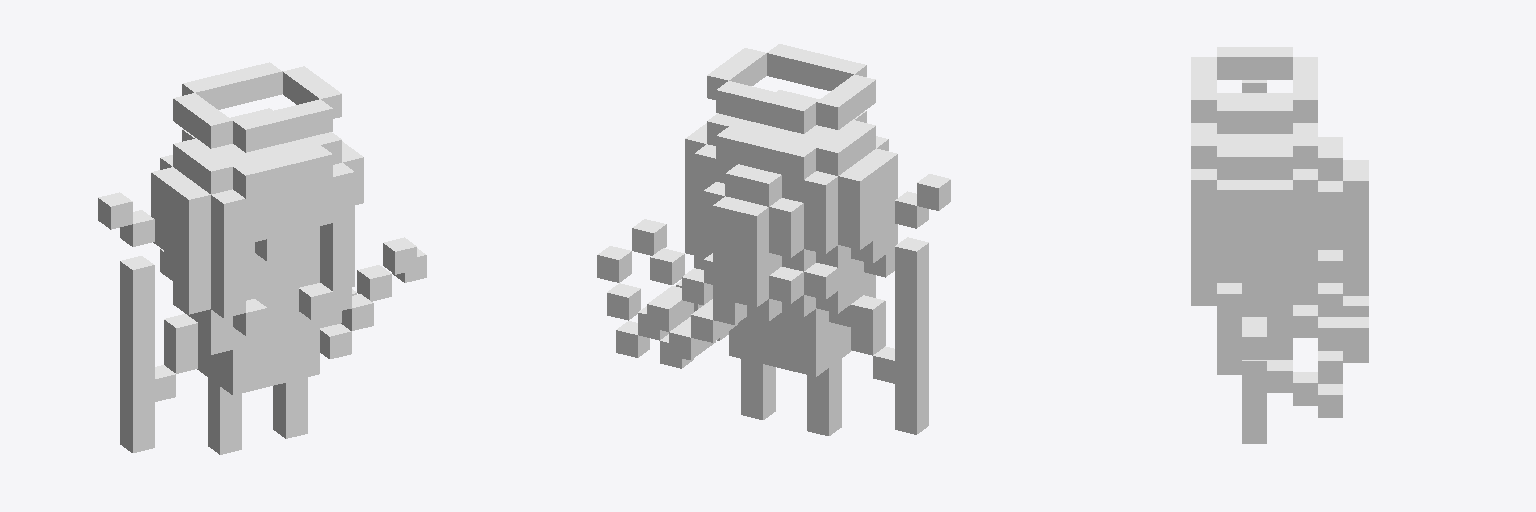
The model's file is Angle.obj.
The picture shows the model from 3 angles: view 1: azimuth 30°, elevation 25°; view 2: azimuth 150°, elevation 25°; view 3: azimuth 270°, elevation 25°; orthographic projection.
Parts seen in each view (by area): view 1: object 1; view 2: object 1; view 3: object 1.
Boxes of the visible parts, x1=… form: object 1: x1=98, y1=62, x2=426, y2=454; object 1: x1=597, y1=44, x2=950, y2=435; object 1: x1=1191, y1=47, x2=1368, y2=443.
Bounding box in the file's own units: 1.5 × 1.5 × 0.7.